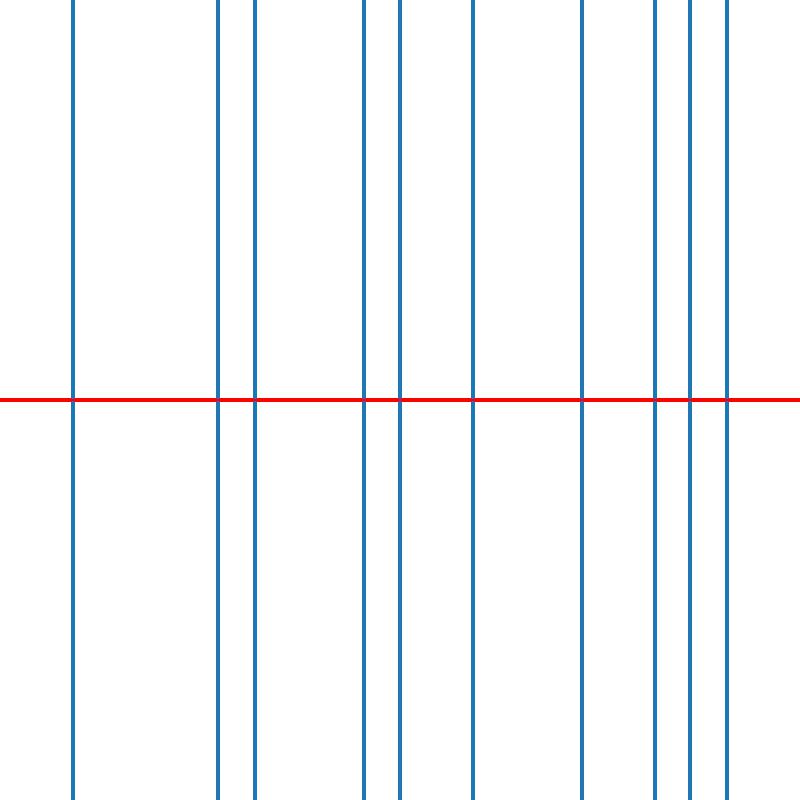root: (650, 396, 658, 404), (250, 396, 258, 404), (578, 396, 585, 404), (69, 396, 76, 404), (723, 396, 730, 404), (360, 396, 367, 404), (214, 396, 221, 404), (396, 396, 403, 404), (687, 396, 694, 404), (469, 396, 476, 404)
